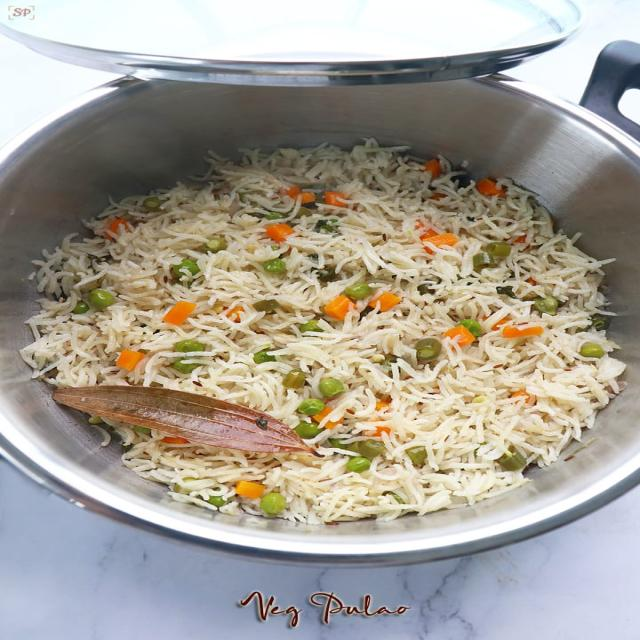veg palav: (9, 126, 640, 543)
